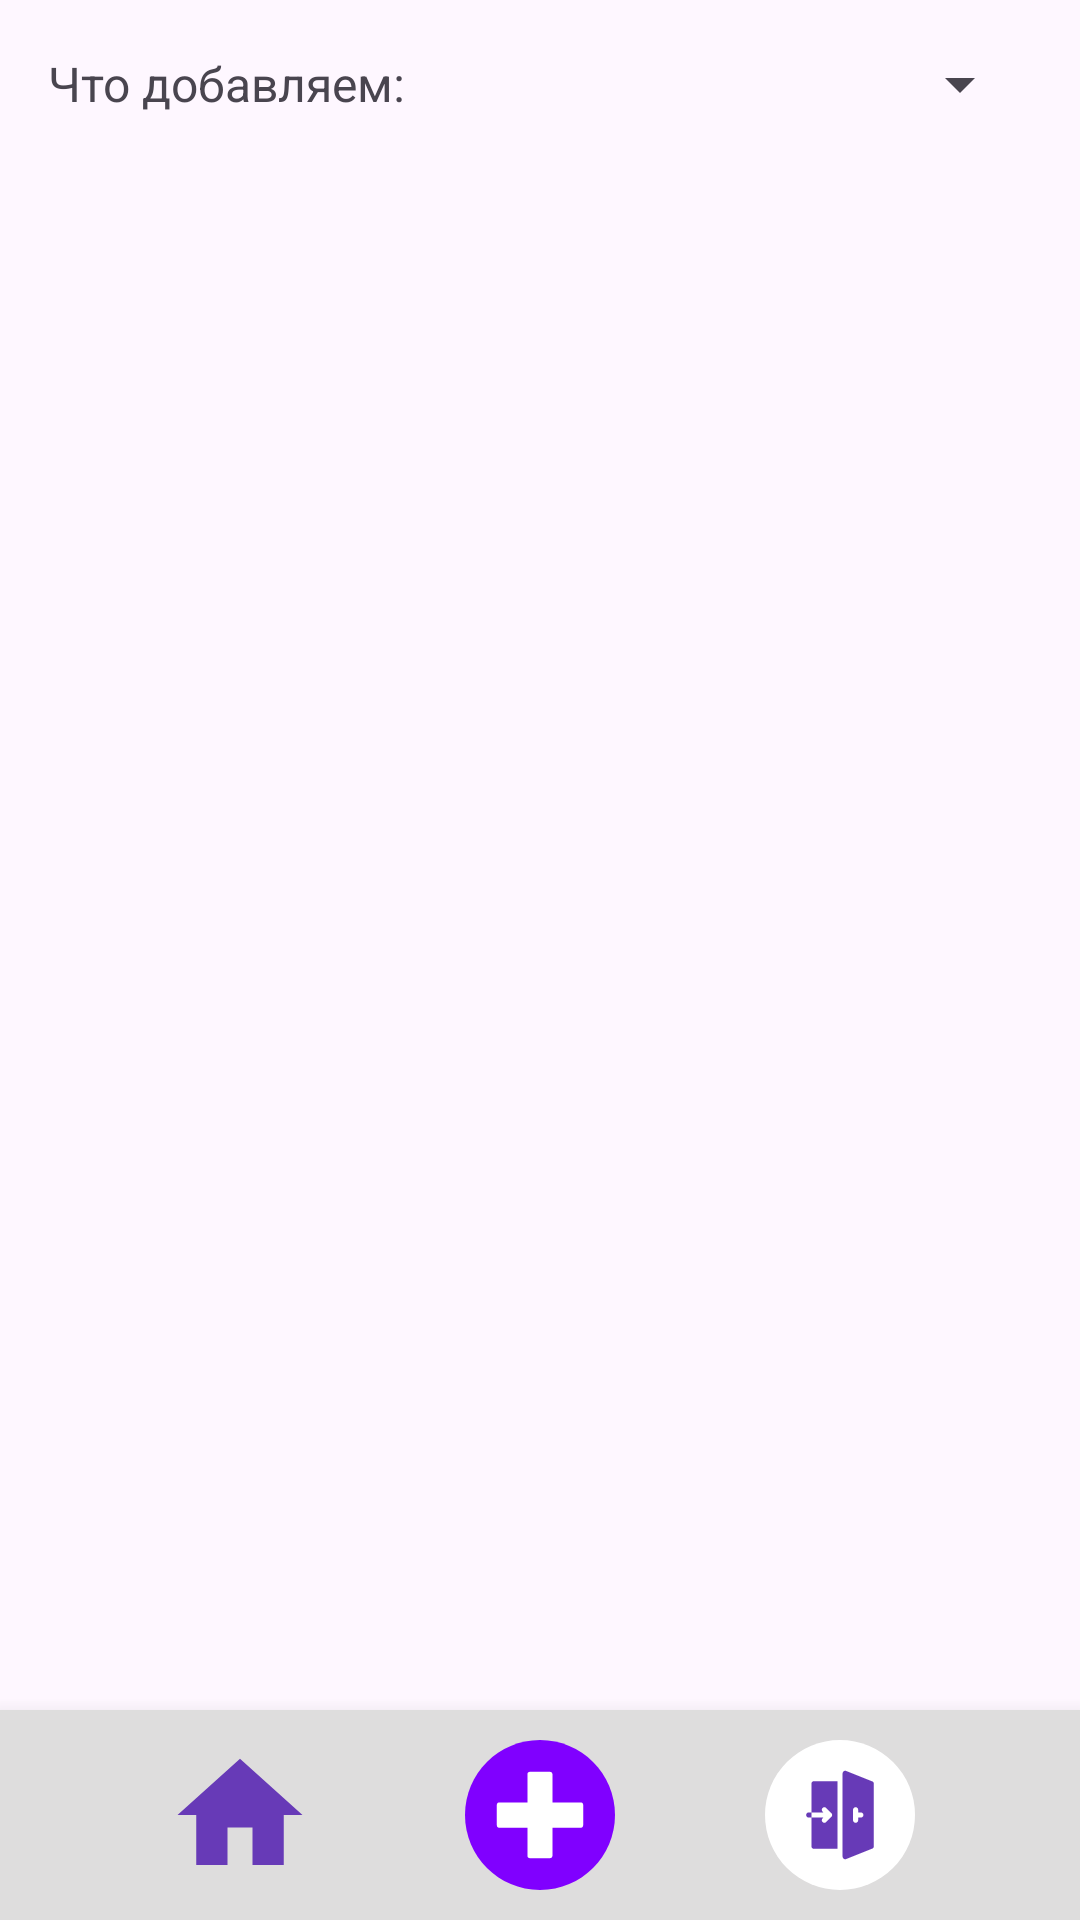

Icon click points for this 1080×1920 phone screenshot, format (x,y):
add: (540,1815)
exit: (840,1815)
home: (240,1812)
